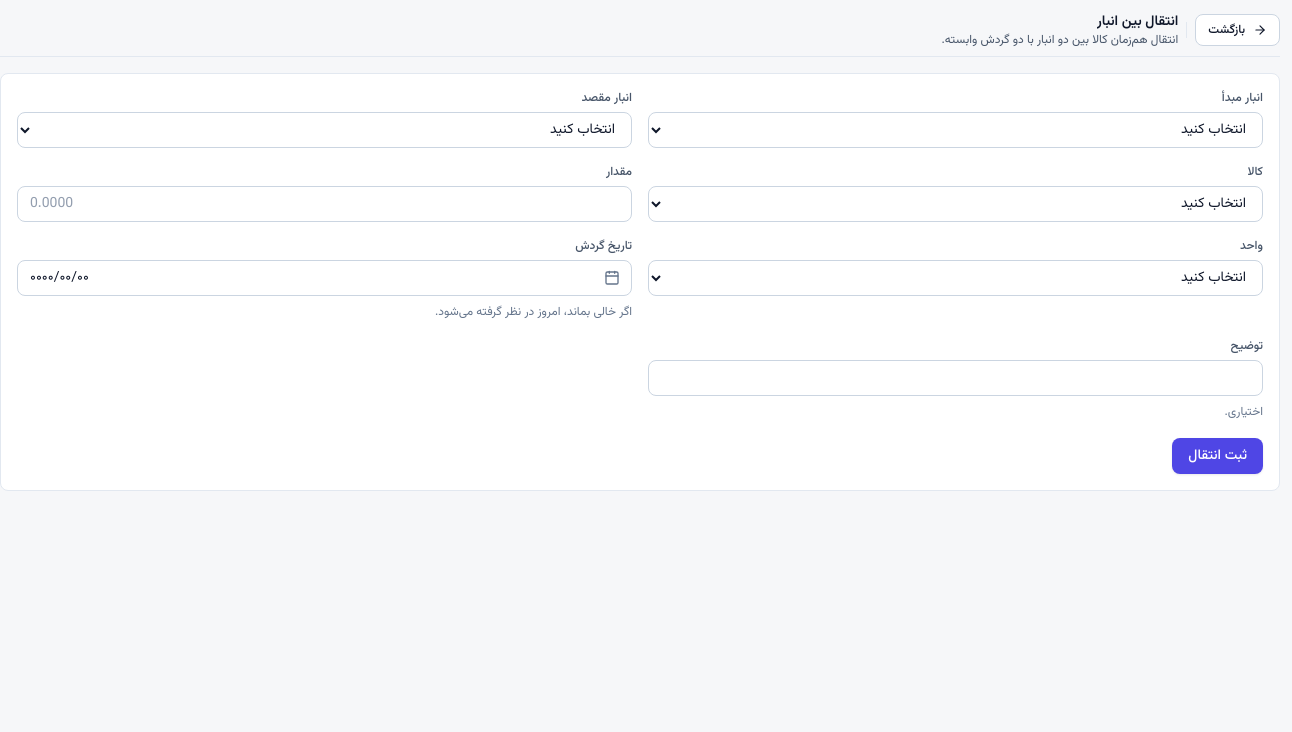
Transfer form — no cost, no pre-check, honest refusal › rejects equal source and destination warehouses client-side
The image size is (1292, 732).
Select "WH-01 — انبار مرکزی" in the dropdown labelled "انبار مبدأ" at (956,130), box top-left (648, 112), bottom-right (1263, 148)
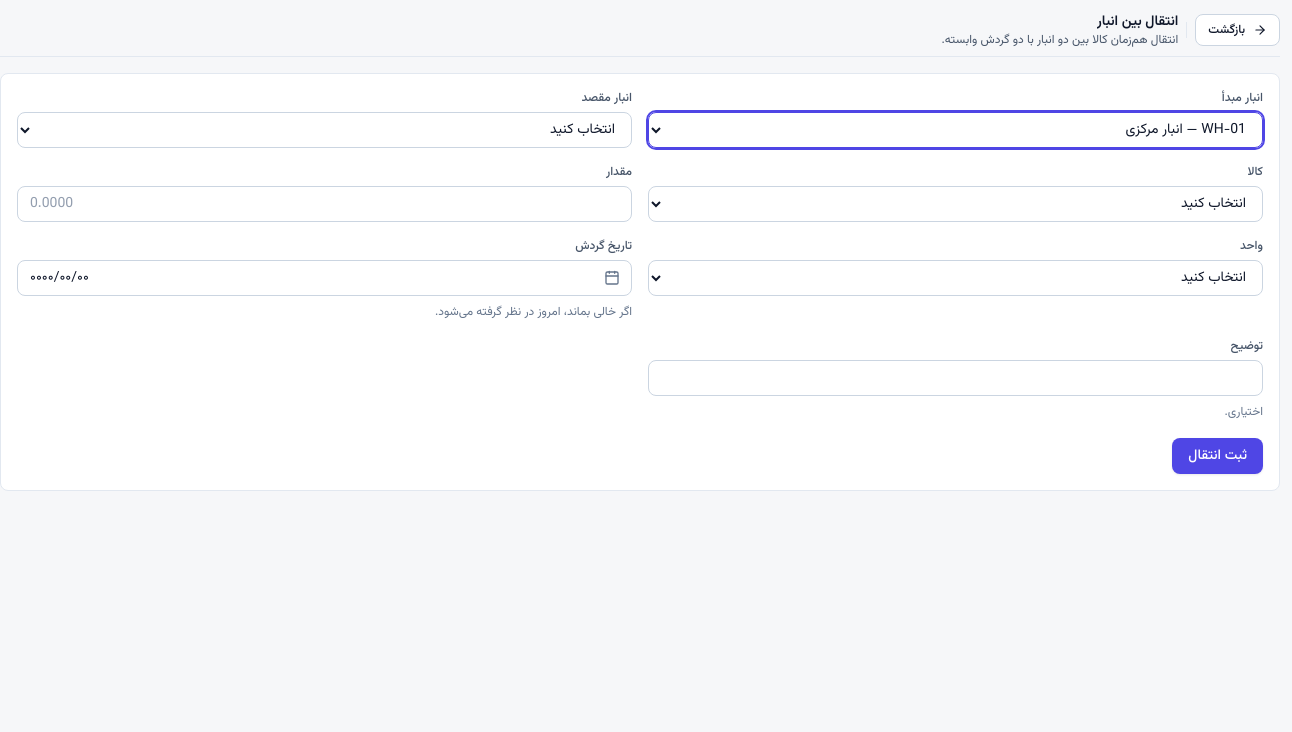
Select "WH-01 — انبار مرکزی" in the dropdown labelled "انبار مقصد" at (324,130), box top-left (17, 112), bottom-right (632, 148)
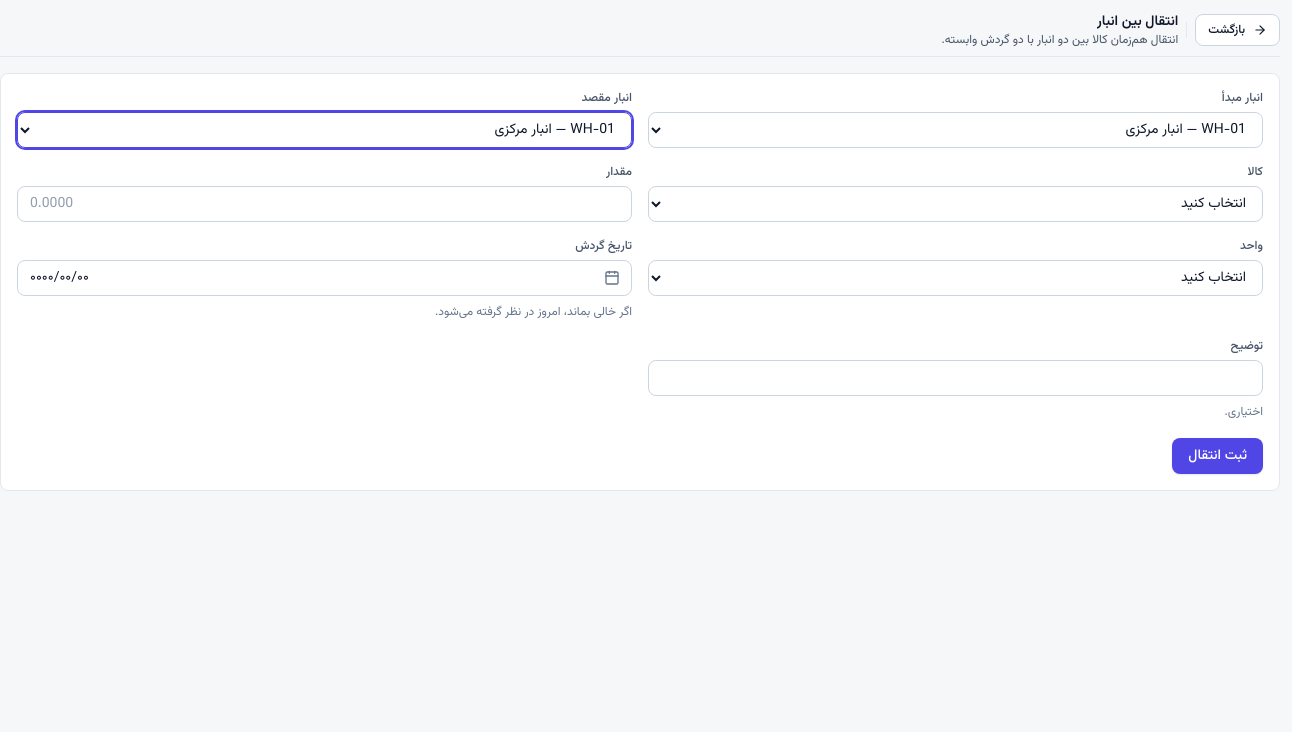
Select "KAL-01 — کالای نمونه" in the dropdown labelled "کالا" at (956,204), box top-left (648, 186), bottom-right (1263, 222)
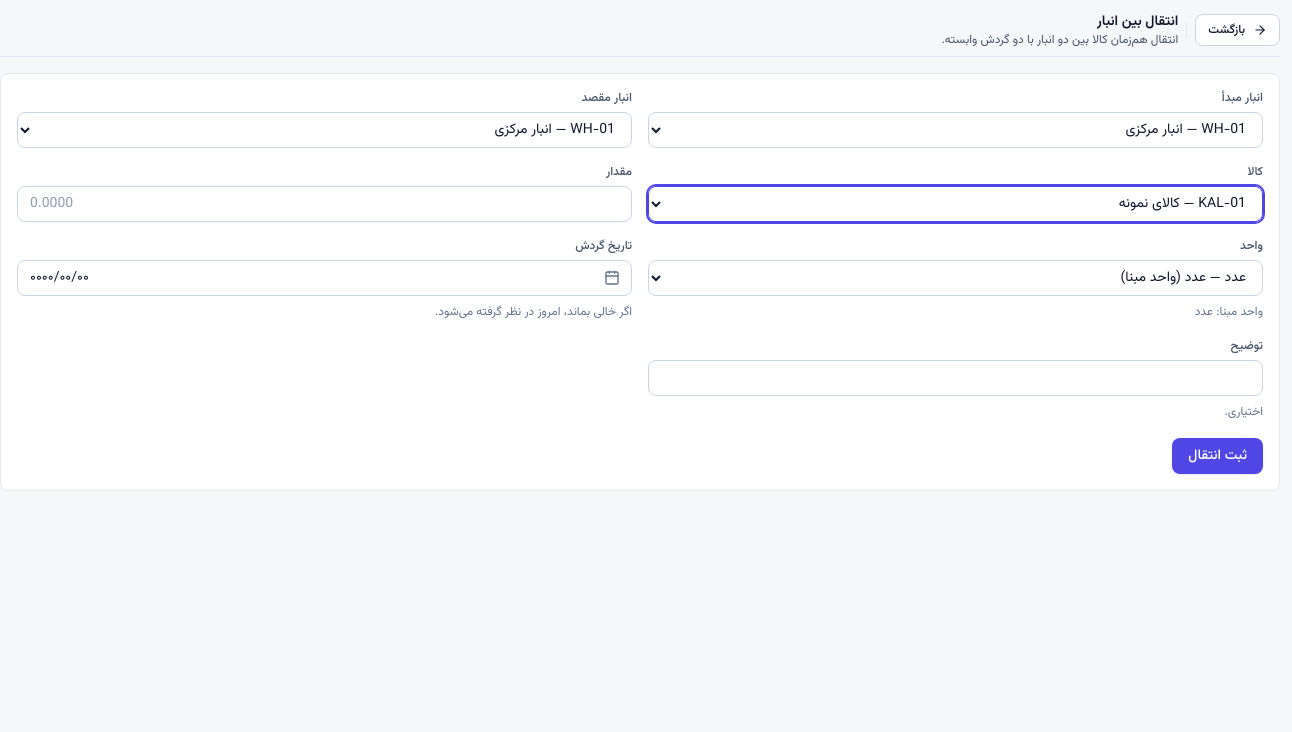
Type "5" into the field labelled "مقدار" at (324,204), box top-left (17, 186), bottom-right (632, 222)
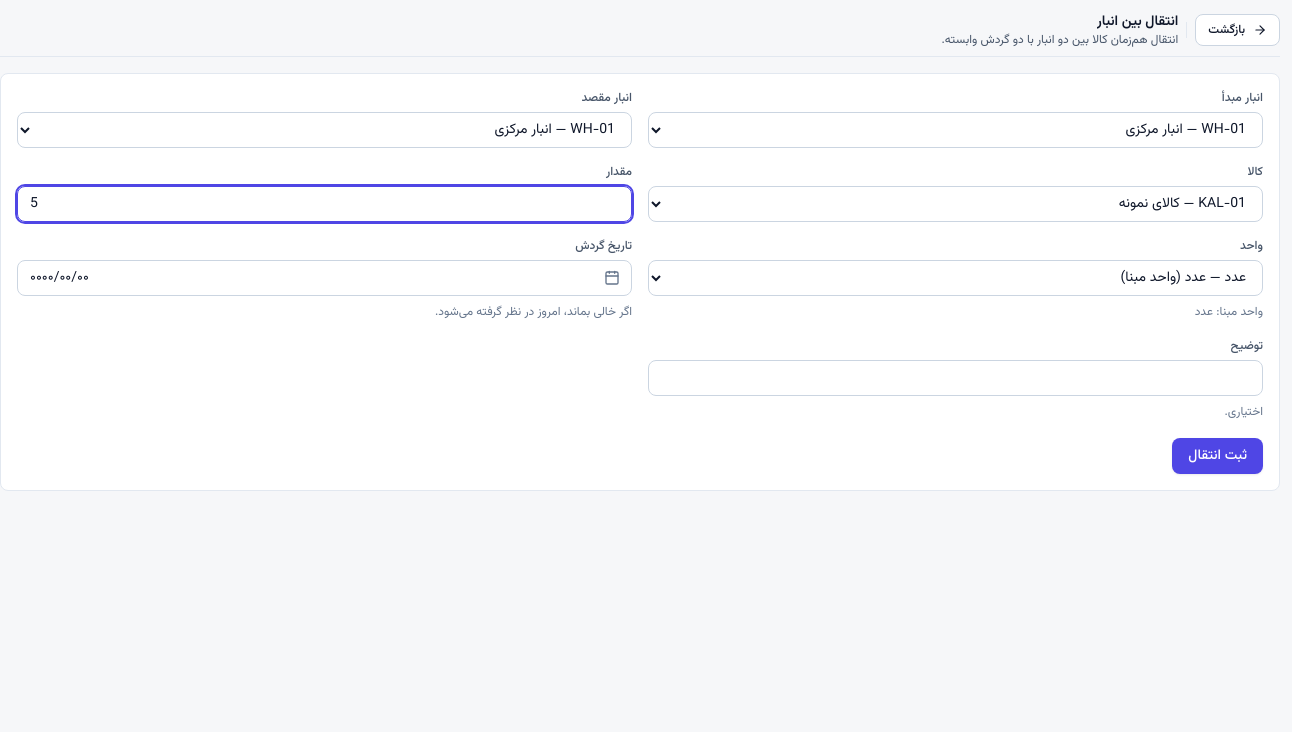
Select "عدد — عدد (واحد مبنا)" in the dropdown labelled "واحد" at (956,278), box top-left (648, 260), bottom-right (1263, 296)
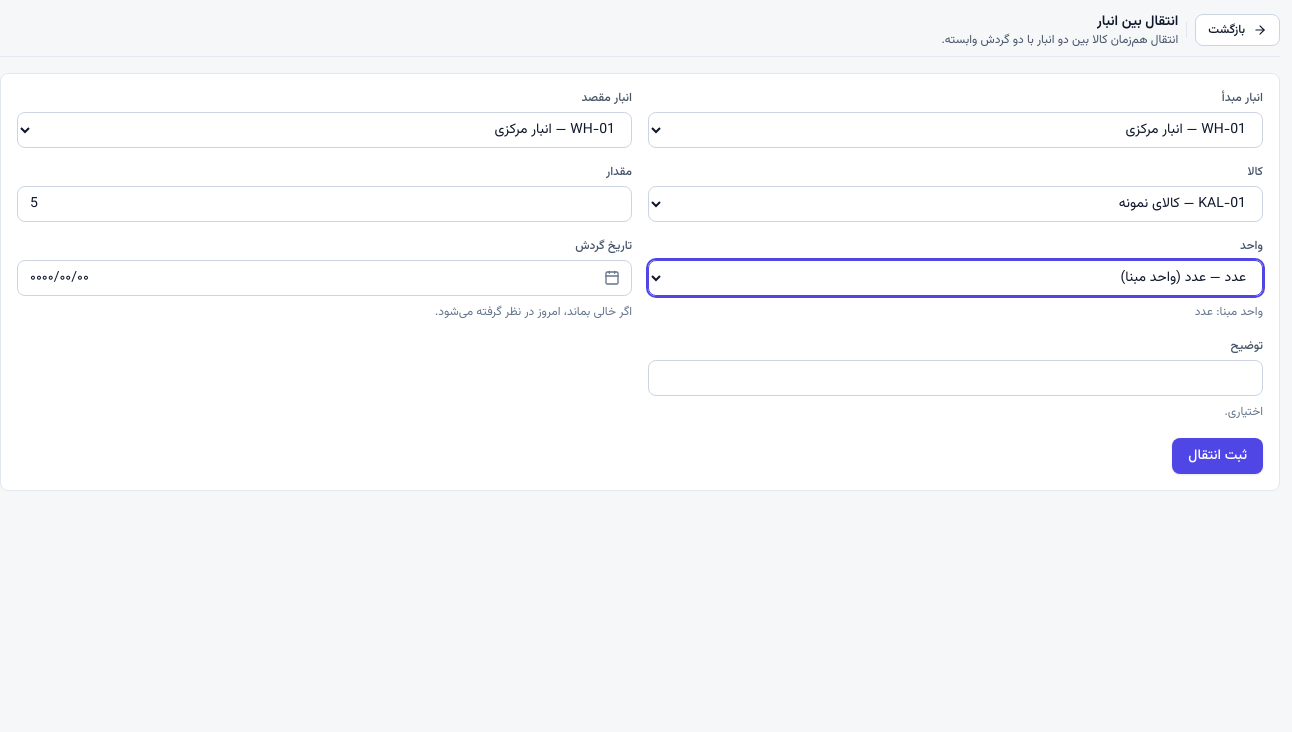
Click the button "ثبت انتقال" at (1218,456), box top-left (1172, 438), bottom-right (1263, 474)
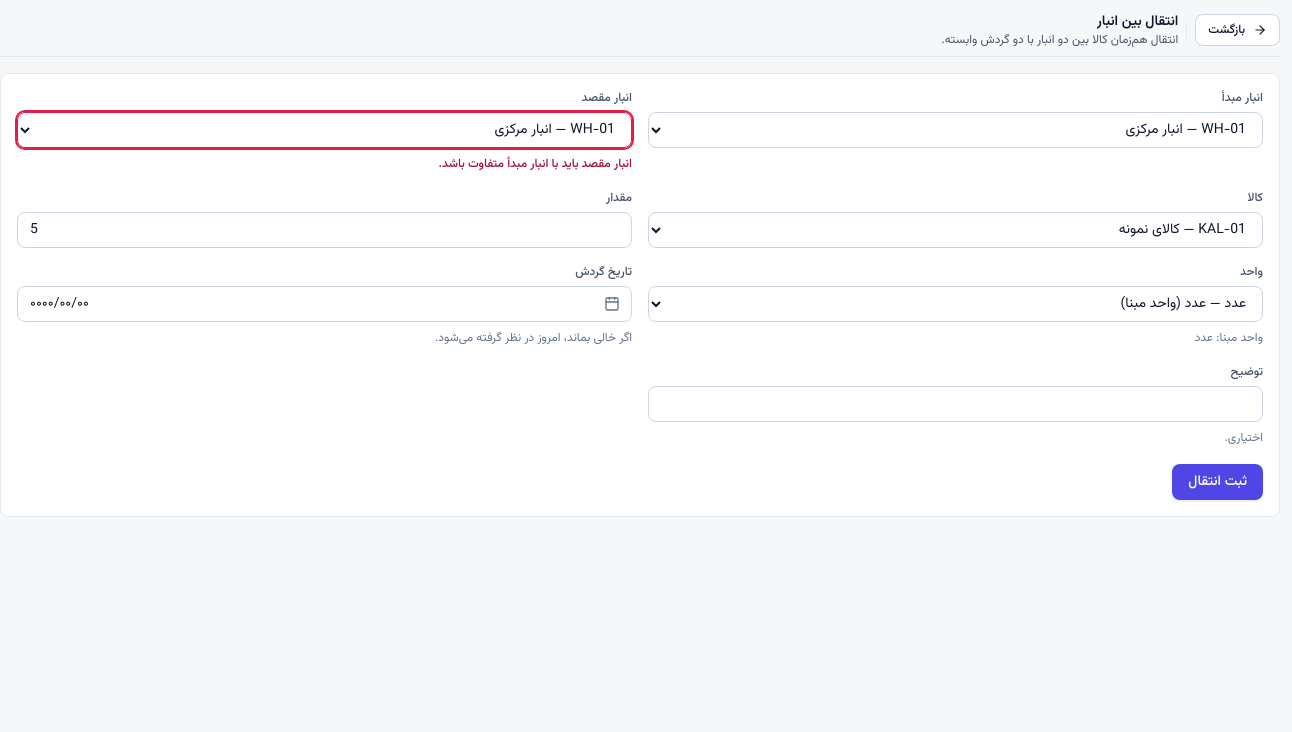
Now the text "انبار مقصد باید با انبار مبدأ متفاوت باشد." is shown, box top-left (439, 155), bottom-right (632, 173)
